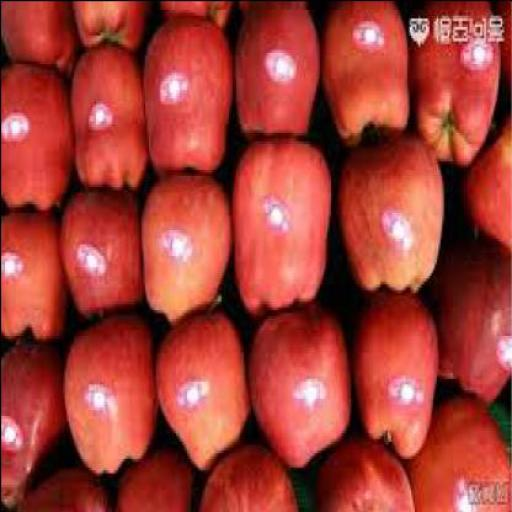biodegradable: (228, 135, 328, 317), (332, 131, 441, 295), (246, 303, 348, 472), (406, 3, 497, 172), (138, 14, 230, 180), (60, 318, 155, 478), (152, 315, 242, 478), (136, 174, 228, 332), (348, 298, 432, 466), (432, 241, 510, 409), (54, 186, 140, 332), (318, 3, 406, 143), (65, 46, 148, 194), (232, 3, 318, 143), (404, 398, 510, 510), (0, 59, 71, 214), (1, 342, 64, 510), (1, 206, 64, 347), (456, 109, 510, 260), (194, 446, 296, 510), (310, 449, 415, 511), (0, 3, 71, 77), (113, 449, 191, 511), (68, 2, 151, 52), (12, 469, 108, 511), (153, 3, 227, 31), (496, 2, 510, 106), (233, 2, 246, 18)
